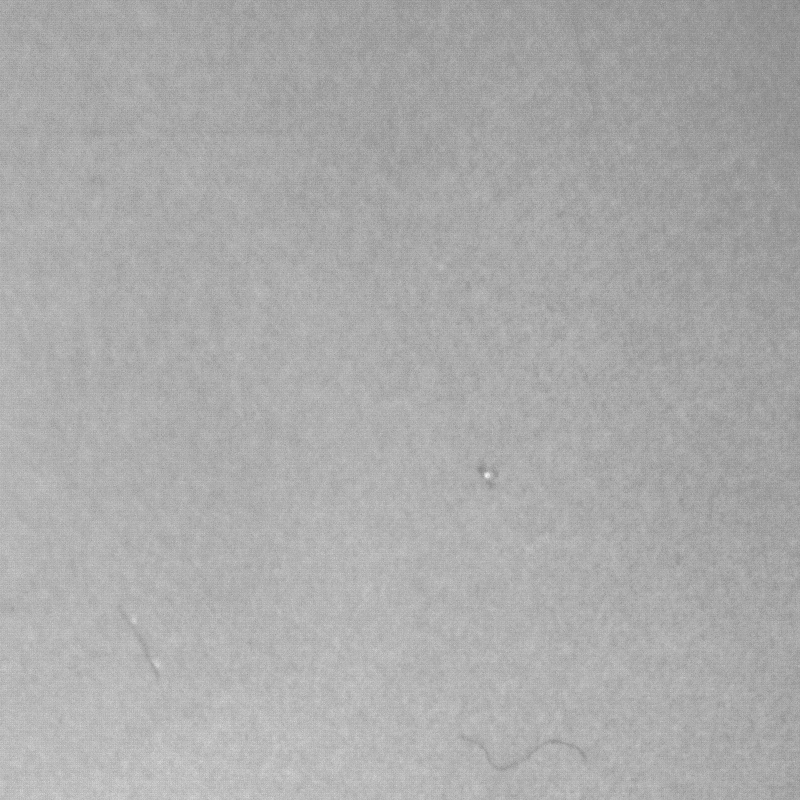defect: (460, 730, 602, 776), (116, 608, 177, 696), (479, 463, 500, 493)
